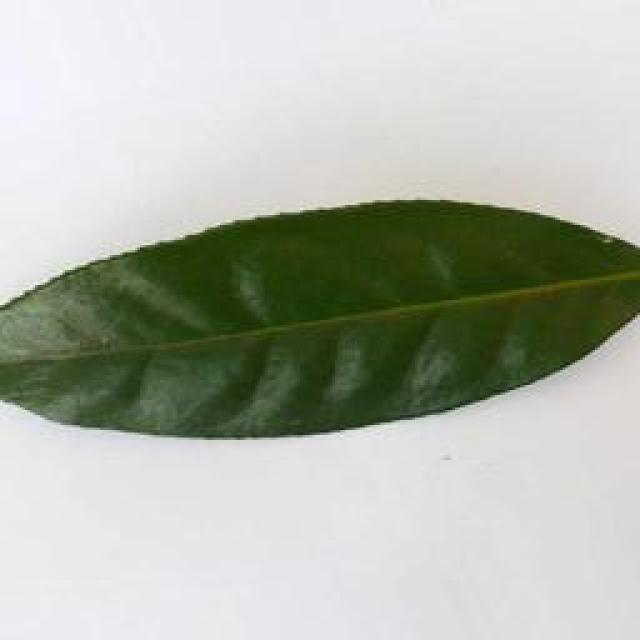Healthy: (6, 193, 640, 442)
